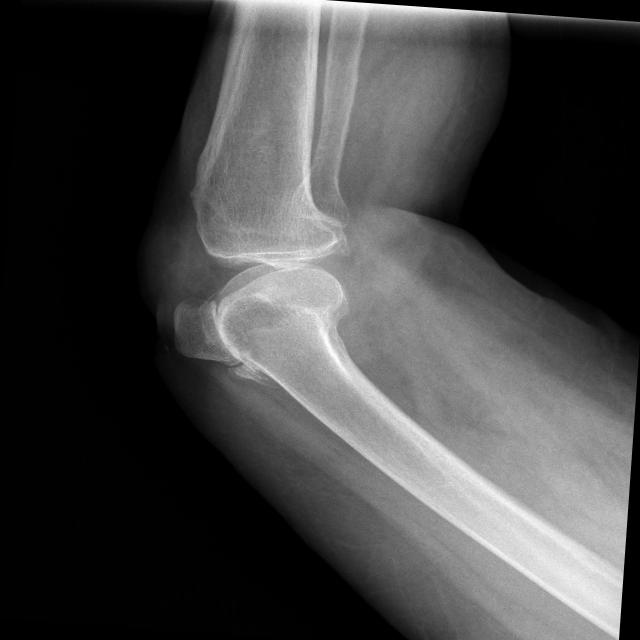Knee: (171, 195, 356, 375)
